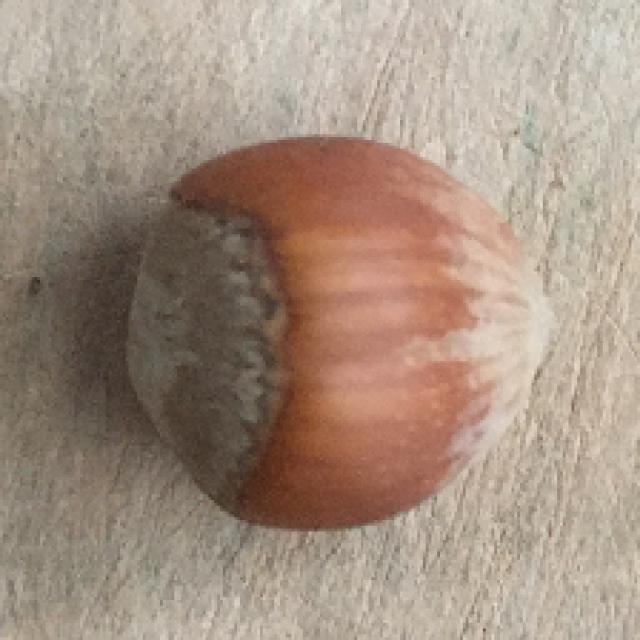qualityHazelnut: (110, 128, 561, 538)
